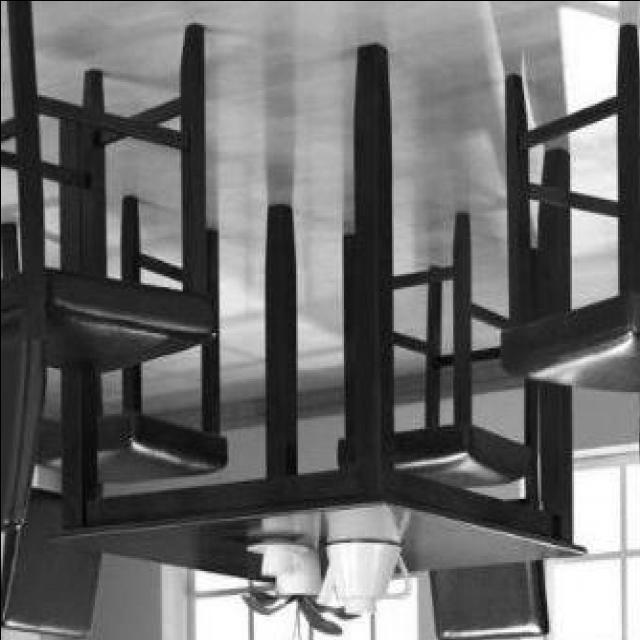chair: (1, 2, 212, 530), (0, 206, 226, 638), (334, 220, 559, 639)
table: (49, 43, 583, 584)
